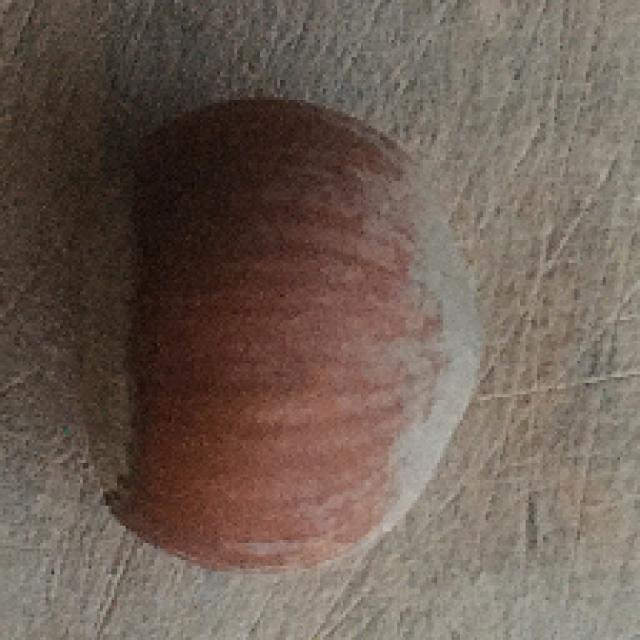qualityHazelnut: (40, 80, 482, 586)
